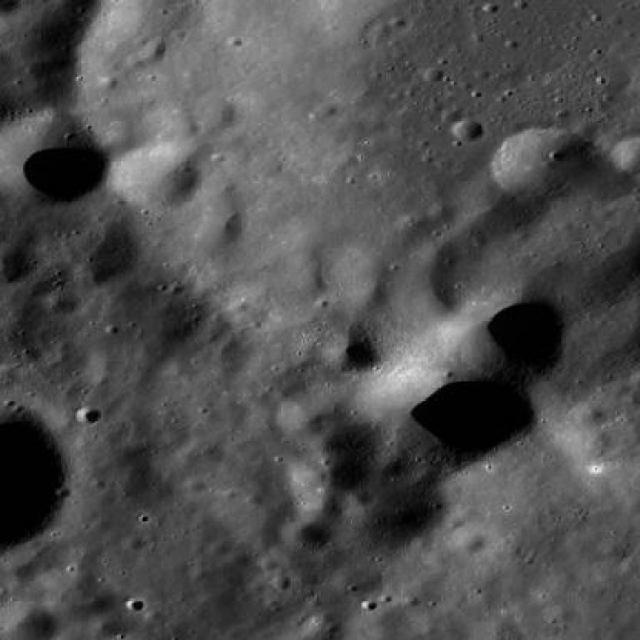crater: (362, 348, 533, 470), (444, 290, 574, 384), (313, 461, 442, 554), (0, 110, 114, 206), (279, 372, 390, 452), (492, 127, 594, 200), (200, 467, 300, 538), (110, 145, 201, 210), (458, 171, 546, 234), (286, 447, 362, 502), (45, 572, 113, 622), (70, 226, 139, 274), (323, 334, 380, 374), (406, 278, 460, 317), (282, 514, 333, 550), (333, 562, 379, 596), (196, 214, 242, 248), (353, 252, 399, 286), (0, 243, 35, 285), (73, 258, 115, 290), (350, 280, 392, 312), (0, 550, 40, 581), (416, 241, 458, 270), (196, 96, 237, 125), (88, 612, 127, 640), (302, 497, 340, 525), (454, 527, 490, 553), (45, 290, 81, 316), (192, 434, 225, 458), (572, 403, 602, 425), (544, 604, 574, 626), (454, 119, 484, 139), (207, 536, 233, 556), (603, 538, 629, 557), (310, 96, 336, 115), (347, 490, 373, 508), (177, 448, 203, 466), (142, 40, 168, 58), (428, 204, 454, 222), (10, 228, 36, 245), (75, 403, 100, 420), (0, 0, 2, 2)
